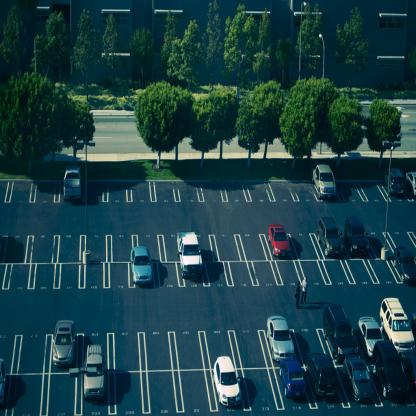Car: (278, 294, 416, 406), (213, 354, 244, 408), (50, 314, 77, 367), (266, 313, 294, 364), (81, 341, 105, 398), (316, 216, 346, 258), (342, 211, 370, 256), (131, 245, 153, 284), (312, 163, 336, 198), (268, 223, 292, 256), (384, 165, 409, 196), (62, 165, 80, 199), (0, 358, 7, 407), (406, 168, 416, 198)
